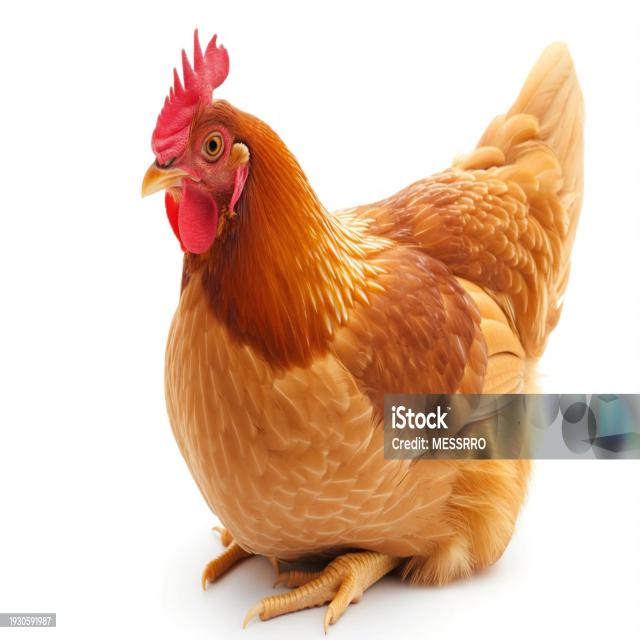Chicken: (112, 26, 617, 618)
